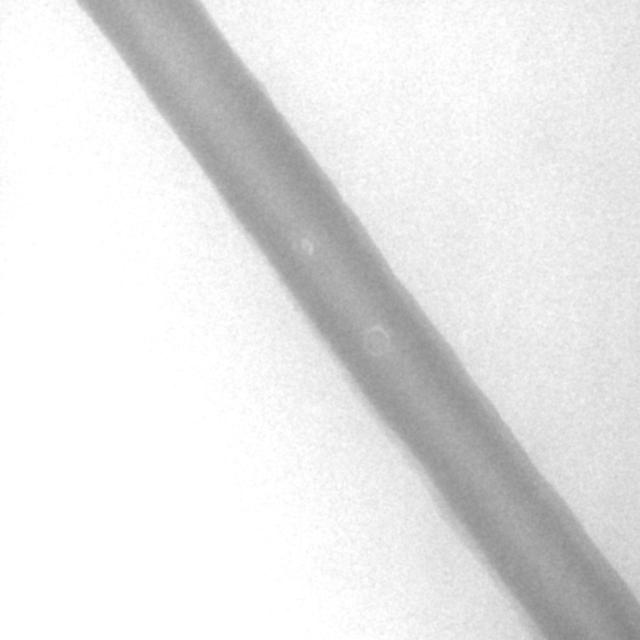air-hole: (299, 238, 316, 258)
